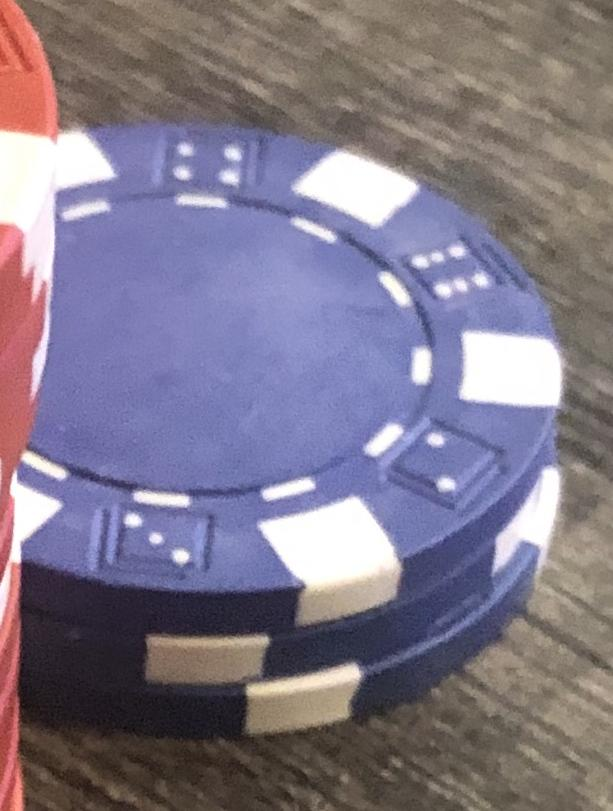Chip: (1, 1, 613, 811)
